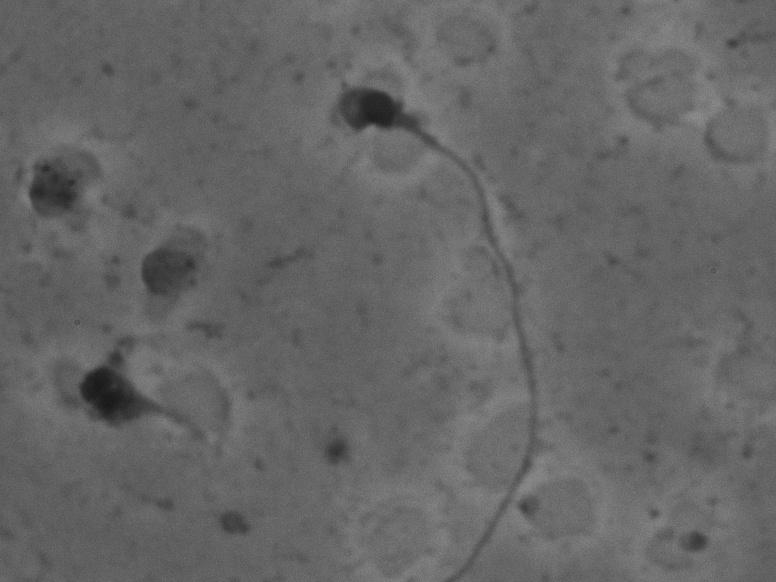Abnormal: (332, 75, 586, 563), (40, 347, 253, 481)
